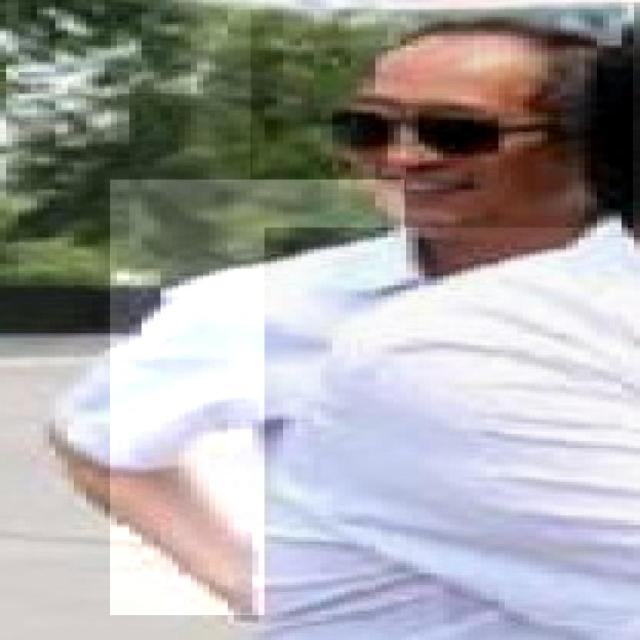Helmet: (264, 227, 639, 640), (110, 180, 404, 615), (251, 9, 633, 267)
